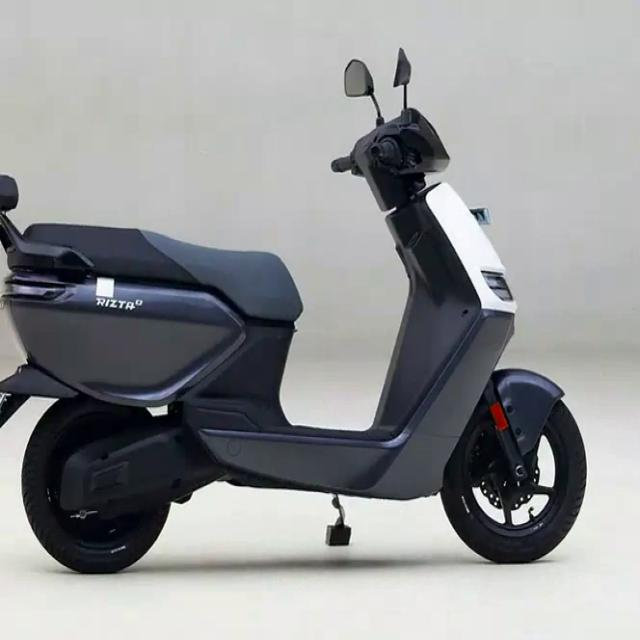objects: (0, 58, 584, 579)
